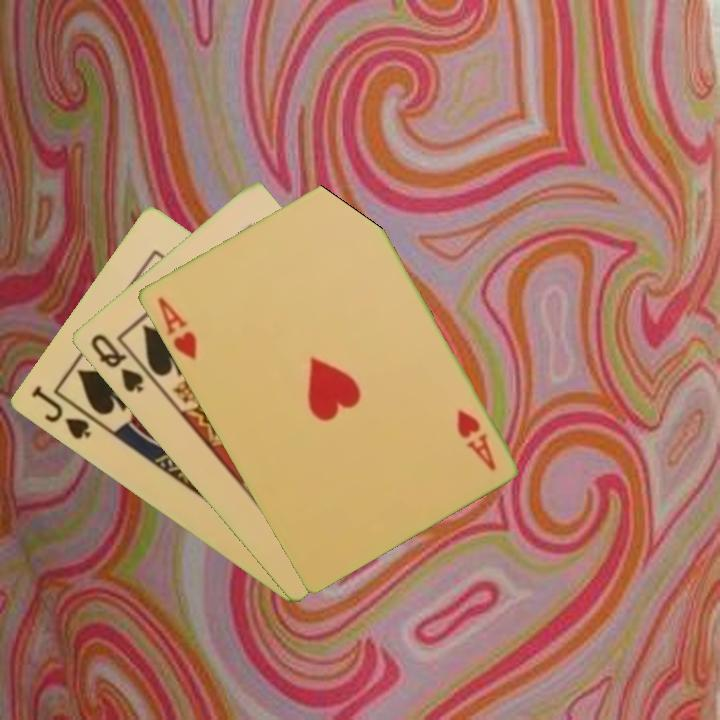Ah: (153, 293, 199, 363), (452, 405, 498, 474)
Js: (27, 382, 94, 443)
Qs: (86, 330, 146, 397)
